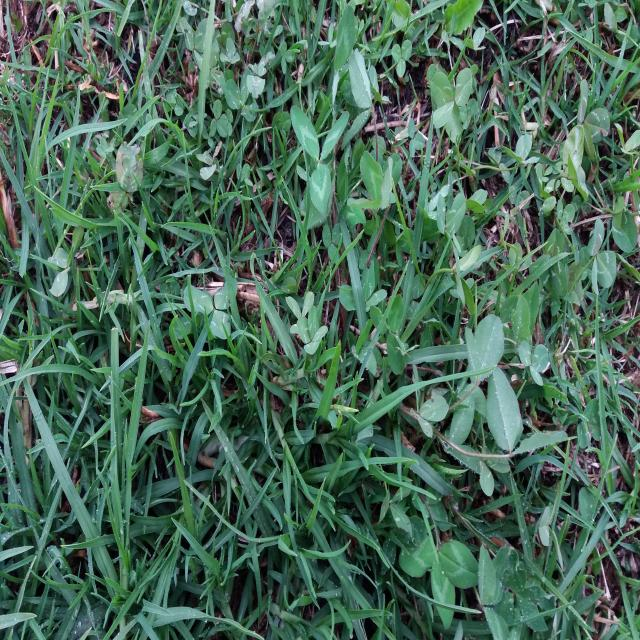Four Leaf Clover: (297, 304, 328, 354)
